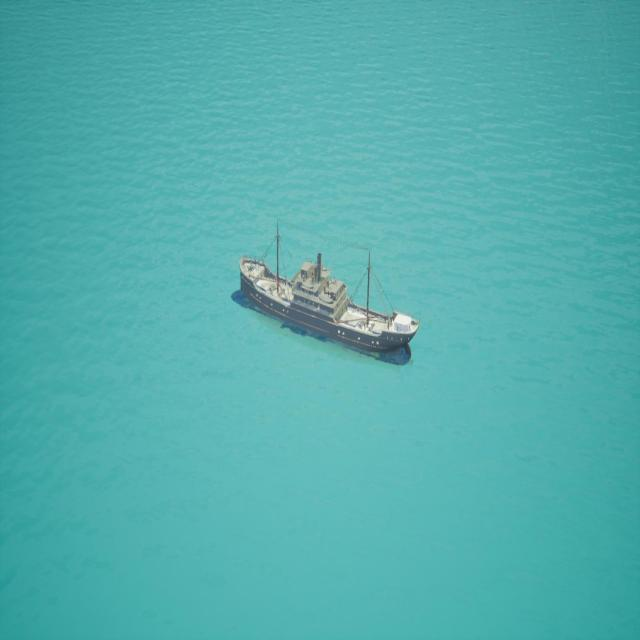fishing ship: (237, 229, 418, 365)
